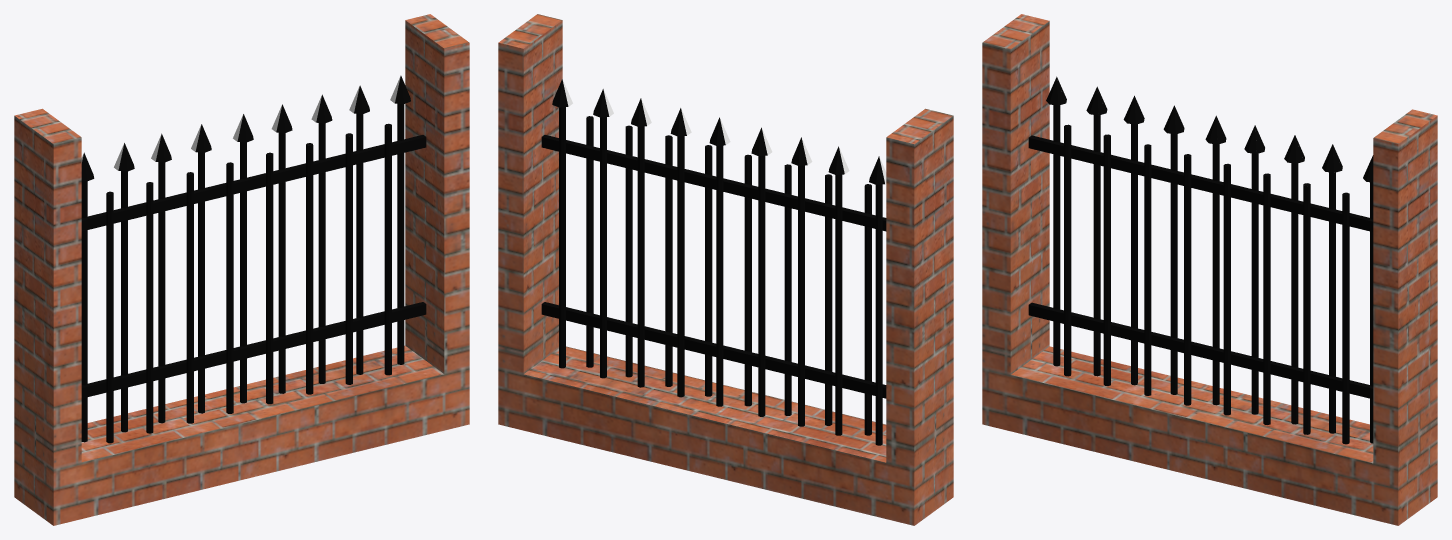
File: ParkFence.fbx
The picture shows the model from 3 angles, left to right: view 1: azimuth 30°, elevation 25°; view 2: azimuth 150°, elevation 25°; view 3: azimuth 330°, elevation 25°; orthographic projection.
Visible parts, largest first — view 1: parkFence; view 2: parkFence; view 3: parkFence.
Boxes of the visible parts, x1,y1,x2,y2 form: parkFence: (14,14,469,525); parkFence: (498,14,953,525); parkFence: (982,14,1437,525).
Size of the model in its own units: 376 by 330 by 61.31.
1 material, 1 textured.
